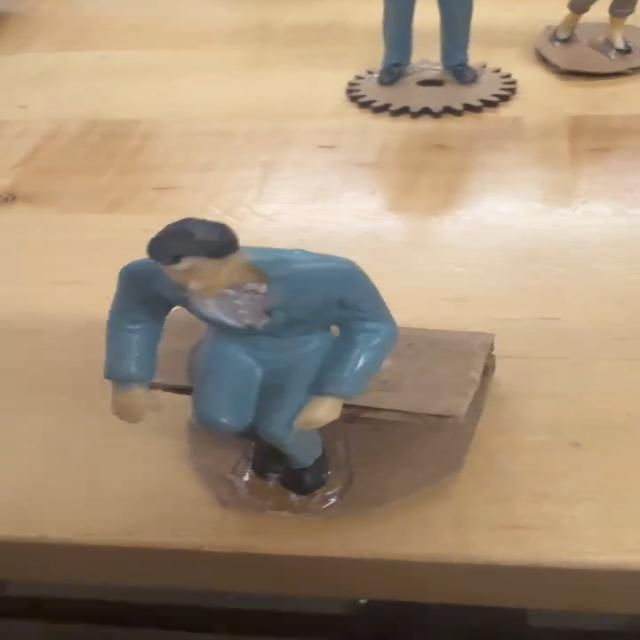Authorized: (52, 211, 556, 536)
